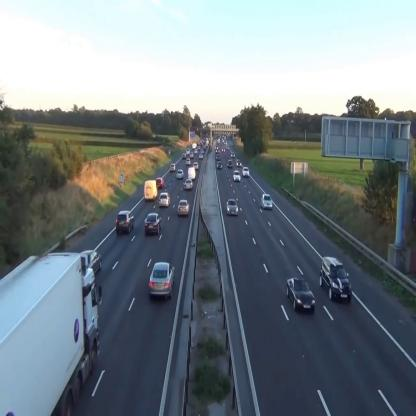car: (320, 257, 353, 303), (148, 261, 176, 299), (286, 278, 315, 312), (82, 247, 102, 275), (116, 210, 135, 233), (143, 179, 159, 202), (146, 212, 162, 234), (159, 190, 171, 207), (226, 199, 238, 214), (260, 194, 272, 209), (178, 198, 188, 213), (156, 177, 165, 189), (188, 168, 196, 180), (233, 170, 241, 182), (185, 179, 193, 189), (176, 169, 184, 178), (242, 167, 249, 177), (217, 161, 223, 169), (236, 159, 242, 167), (170, 163, 176, 170), (228, 160, 233, 168), (194, 162, 198, 169), (186, 158, 190, 164)
lorry: (1, 250, 97, 416)
